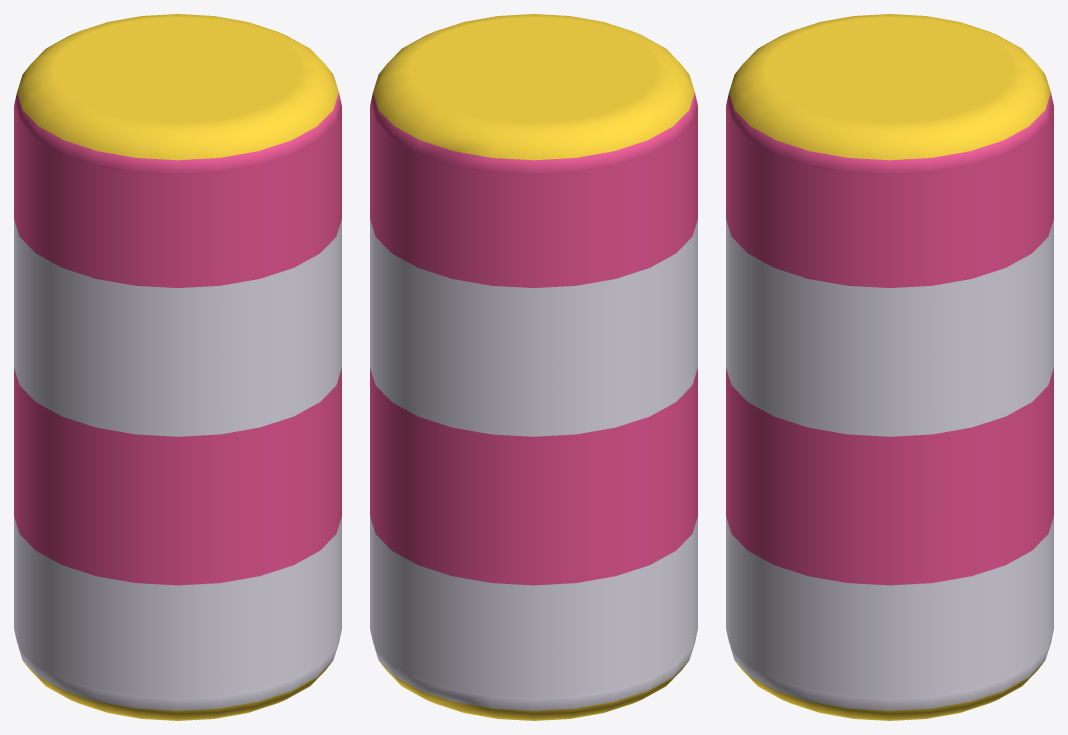
File: pillar_1x2.glb
3 renders of one model, left to right at view 1: azimuth 30°, elevation 25°; view 2: azimuth 150°, elevation 25°; view 3: azimuth 270°, elevation 25°, orthographic.
Visible parts, largest first — view 1: pillar_1x2; view 2: pillar_1x2; view 3: pillar_1x2.
Part boxes in pixels (box(x1,y1,x2,y2)): pillar_1x2: box(14, 14, 341, 720); pillar_1x2: box(370, 14, 697, 720); pillar_1x2: box(726, 14, 1053, 720).
Size of the model in its own units: 1 by 2 by 1.
Materials: 1 (1 with a texture image).
